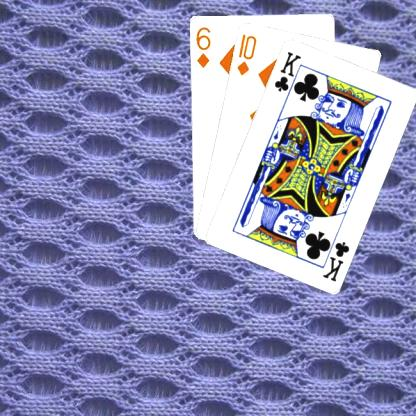10D: (234, 31, 258, 77)
6D: (193, 23, 211, 69)
KC: (317, 230, 351, 283), (271, 48, 304, 100)
